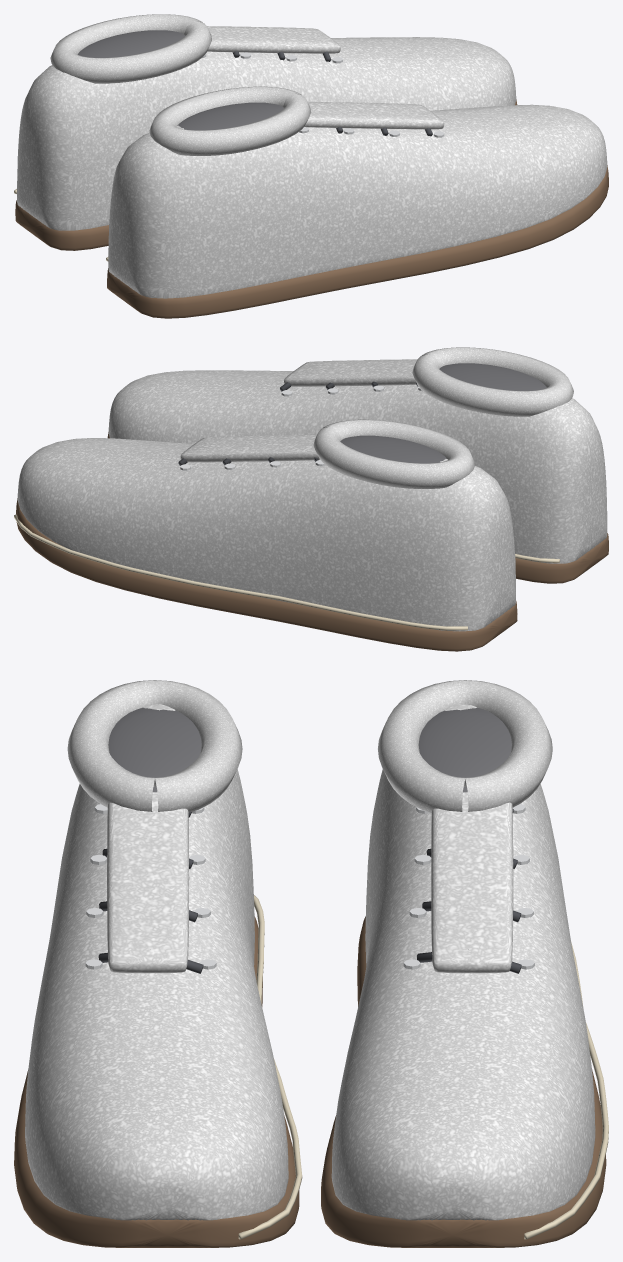
Rendered from dress_shoes.glb.
3 views of the same model, one above another, from view 1: azimuth 30°, elevation 25°; view 2: azimuth 150°, elevation 25°; view 3: azimuth 270°, elevation 25° (orthographic). The views are drawn at different scales.
Visible parts, largest first — view 1: dress0_upper, dress1_upper, dress0_sole, dress0_collar, dress1_collar, dress0_tongue, dress1_tongue, dress0_opening, dress1_sole, dress1_opening; view 2: dress1_upper, dress0_upper, dress1_sole, dress1_collar, dress0_collar, dress1_tongue, dress0_tongue, dress1_welt, dress0_sole, dress0_opening, dress1_opening; view 3: dress1_upper, dress0_upper, dress1_tongue, dress0_tongue, dress0_collar, dress1_collar, dress1_sole, dress0_sole, dress0_opening, dress1_opening, dress0_welt, dress1_welt.
Part boxes in pixels (x1,y1,x2,y2): dress0_upper: [108, 104, 607, 298]; dress1_upper: [17, 37, 516, 230]; dress0_sole: [107, 165, 608, 318]; dress0_collar: [149, 86, 311, 155]; dress1_collar: [50, 14, 211, 83]; dress0_tongue: [304, 102, 444, 129]; dress1_tongue: [207, 26, 340, 53]; dress0_opening: [177, 102, 284, 130]; dress1_sole: [15, 99, 517, 250]; dress1_opening: [77, 30, 184, 57]; dress1_upper: [17, 438, 515, 631]; dress0_upper: [108, 370, 607, 563]; dress1_sole: [16, 498, 517, 651]; dress1_collar: [313, 419, 474, 488]; dress0_collar: [412, 347, 573, 416]; dress1_tongue: [180, 435, 319, 462]; dress0_tongue: [284, 359, 417, 386]; dress1_welt: [14, 514, 467, 630]; dress0_sole: [107, 432, 608, 583]; dress0_opening: [439, 363, 546, 390]; dress1_opening: [340, 435, 446, 463]; dress1_upper: [331, 704, 595, 1220]; dress0_upper: [25, 704, 288, 1220]; dress1_tongue: [431, 792, 513, 973]; dress0_tongue: [107, 792, 189, 973]; dress0_collar: [67, 680, 242, 812]; dress1_collar: [378, 680, 552, 812]; dress1_sole: [321, 916, 606, 1247]; dress0_sole: [14, 916, 299, 1247]; dress0_opening: [108, 707, 201, 792]; dress1_opening: [418, 707, 511, 792]; dress0_welt: [238, 895, 302, 1239]; dress1_welt: [524, 941, 608, 1239].
Bounding box in the file's own units: 30 × 10.39 × 20.84.
6 materials, 1 textured.
